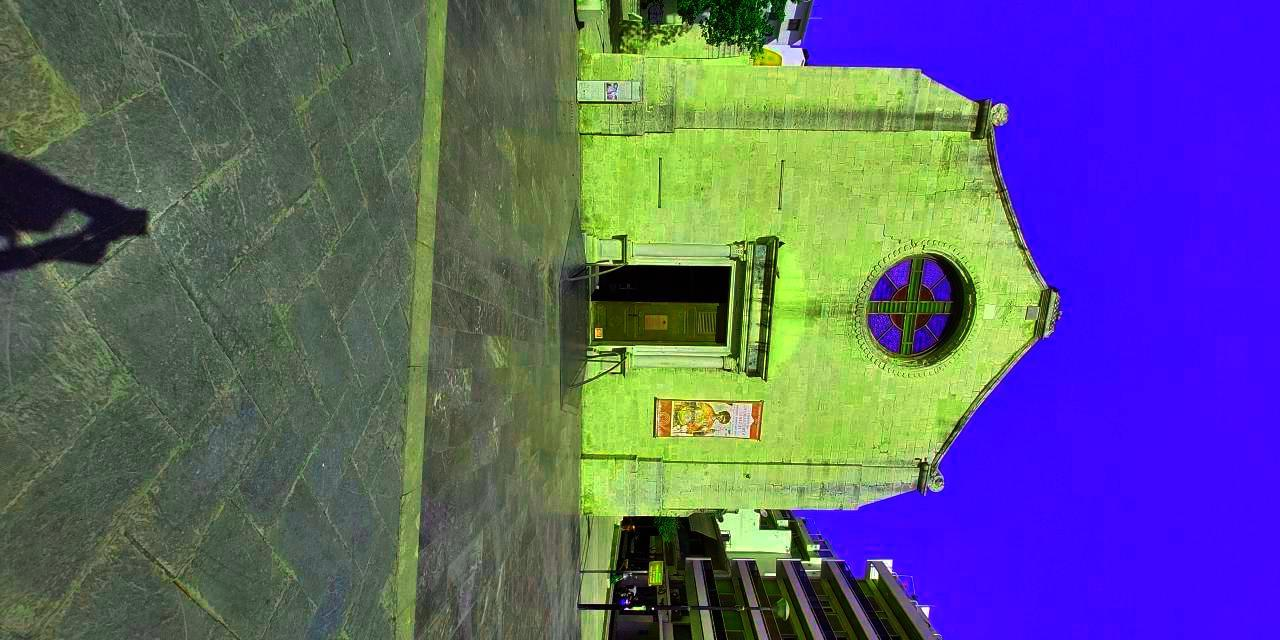Agia Aikaterini: (571, 48, 1089, 525)
